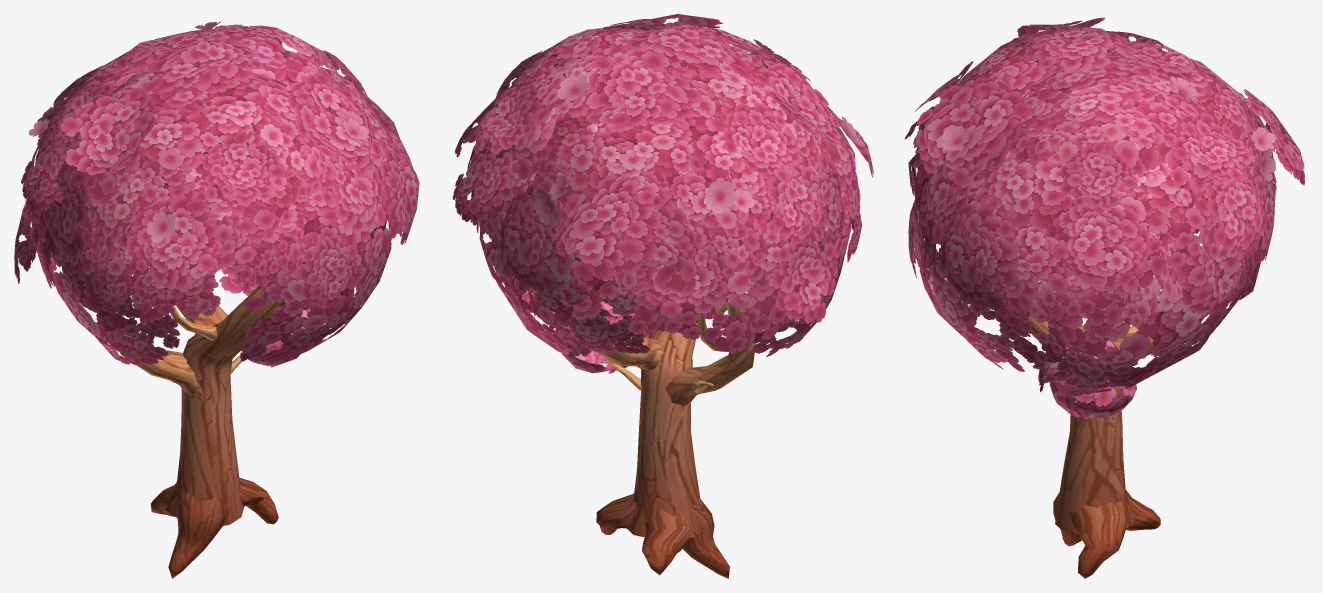
The model's file is SE_Tree_02.fbx.
The picture shows the model from 3 angles, left to right: view 1: azimuth 30°, elevation 25°; view 2: azimuth 150°, elevation 25°; view 3: azimuth 270°, elevation 25°; orthographic projection. The views are drawn at different scales.
Parts seen in each view (by area): view 1: SE_Tree_02; view 2: SE_Tree_02; view 3: SE_Tree_02.
Part boxes in pixels (<box>): SE_Tree_02: <box>14,21,419,578</box>; SE_Tree_02: <box>452,14,873,578</box>; SE_Tree_02: <box>904,17,1304,578</box>.
Size of the model in its own units: 6.99 by 9.51 by 6.61.
